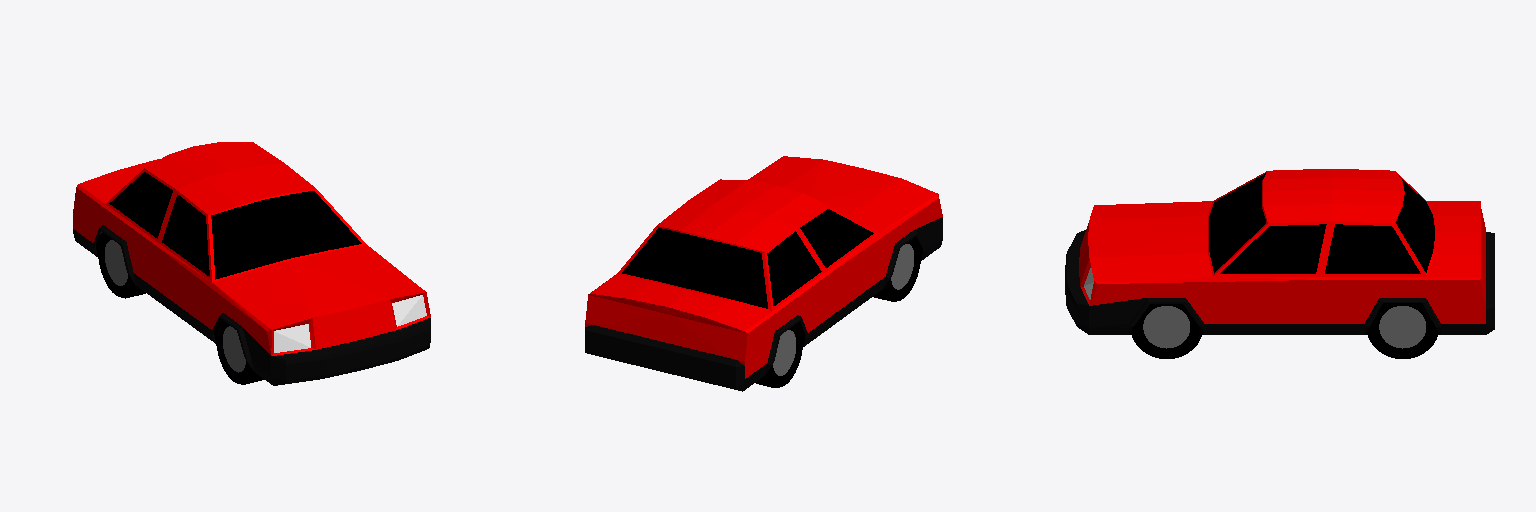
The model's file is Car.obj.
3 views of the same model, side by side, from view 1: azimuth 30°, elevation 25°; view 2: azimuth 150°, elevation 25°; view 3: azimuth 270°, elevation 25° (orthographic).
Visible parts, largest first — view 1: Car_Cube; view 2: Car_Cube; view 3: Car_Cube.
Boxes of the visible parts, <box> form: Car_Cube: <box>73,142,430,385</box>; Car_Cube: <box>585,156,942,391</box>; Car_Cube: <box>1065,169,1494,358</box>.
Size of the model in its own units: 2.1 by 1.59 by 4.67.